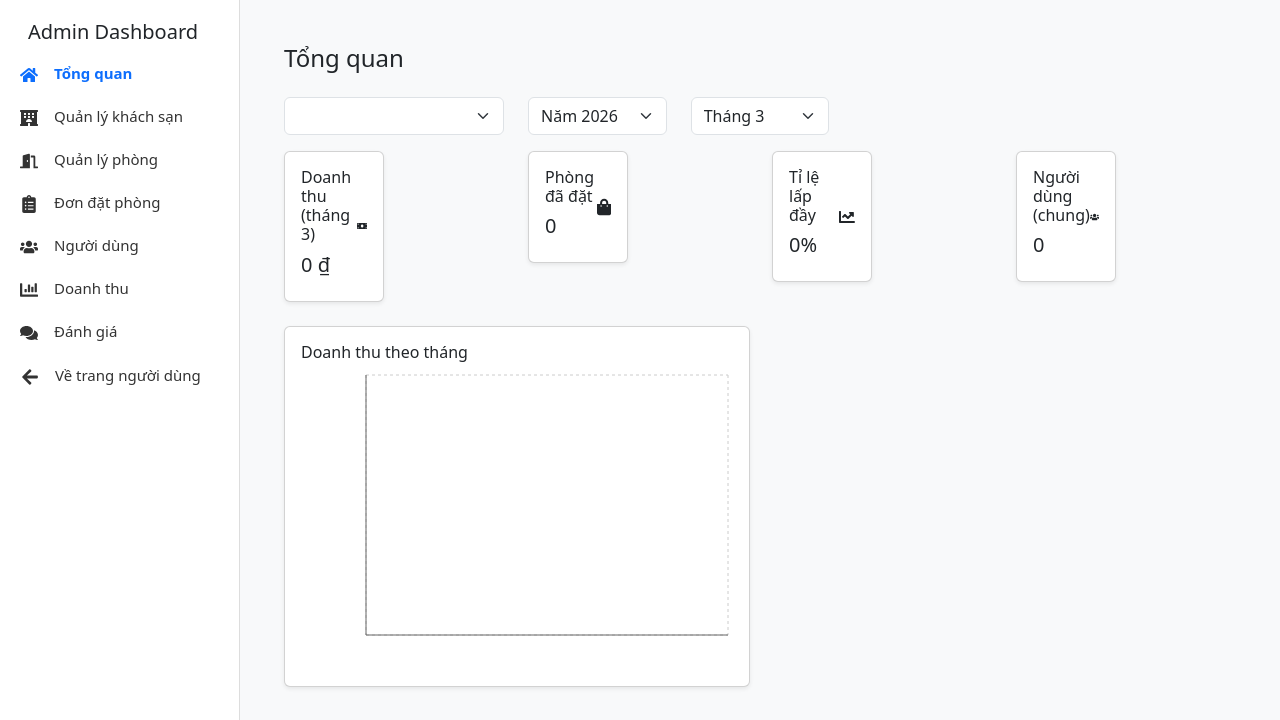
Test: Admin Dashboard › should update revenue card when changing month
The image size is (1280, 720).
Select "Tháng 1" in the 3rd dropdown: [761, 116] box [691,97,830,135]
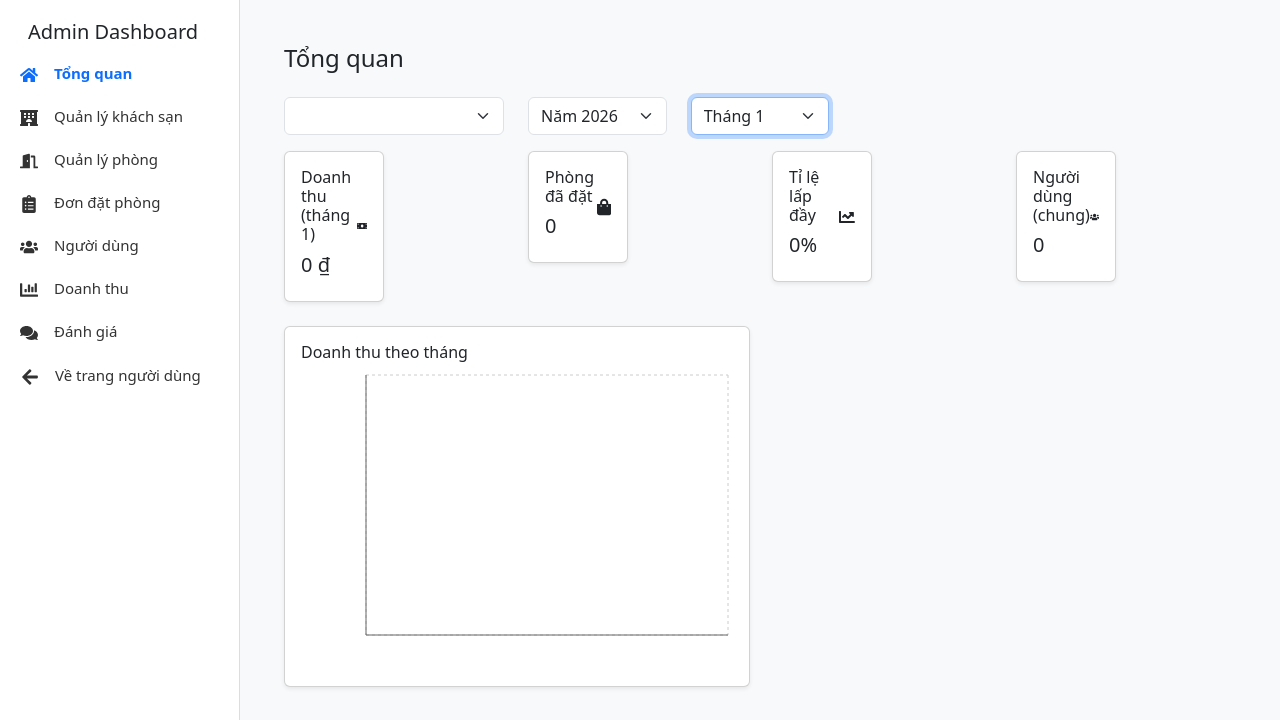
Result: the heading "Doanh thu (tháng 1)" is shown at [301,168,357,245]
